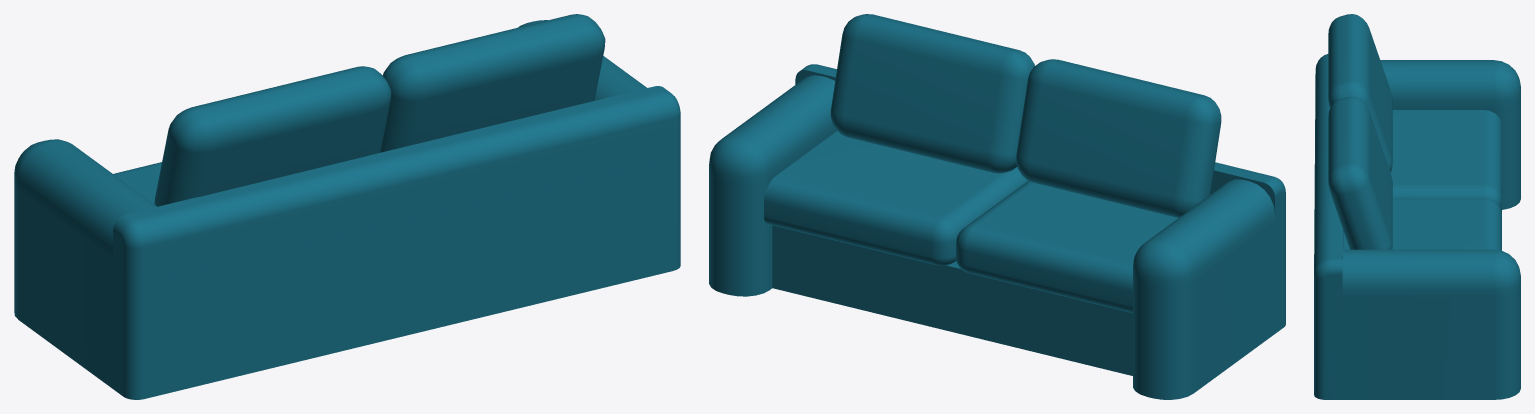
File: Canape2_9.fbx
3 renders of one model, left to right at view 1: azimuth 30°, elevation 25°; view 2: azimuth 150°, elevation 25°; view 3: azimuth 270°, elevation 25°, orthographic. The views are drawn at different scales.
Visible parts, largest first — view 1: pCube1068, pCube2538, pCube2535, pCube2534, pCube2533, pCube2523; view 2: pCube2538, pCube2535, pCube2534, pCube2539, pCube2522, pCube2523, pCube2533, pCube1068; view 3: pCube2533, pCube2523, pCube2538, pCube2534, pCube1068, pCube2522, pCube2535.
Part boxes in pixels (x1,y1,x2,y2): pCube1068: (113, 86, 680, 399); pCube2538: (14, 139, 157, 388); pCube2535: (154, 66, 391, 206); pCube2534: (380, 14, 605, 152); pCube2533: (518, 20, 646, 100); pCube2523: (113, 162, 161, 203); pCube2538: (1133, 179, 1274, 399); pCube2535: (1016, 59, 1221, 217); pCube2534: (830, 14, 1034, 173); pCube2539: (772, 225, 1132, 375); pCube2522: (764, 131, 1027, 265); pCube2523: (956, 180, 1178, 313); pCube2533: (709, 75, 836, 296); pCube1068: (795, 64, 1285, 333); pCube2533: (1342, 249, 1520, 399); pCube2523: (1390, 110, 1501, 213); pCube2538: (1380, 60, 1520, 209); pCube2534: (1328, 96, 1392, 249); pCube1068: (1314, 54, 1343, 399); pCube2522: (1343, 198, 1501, 250); pCube2535: (1328, 14, 1392, 172).
Size of the model in its own units: 167 by 73.88 by 68.22.
